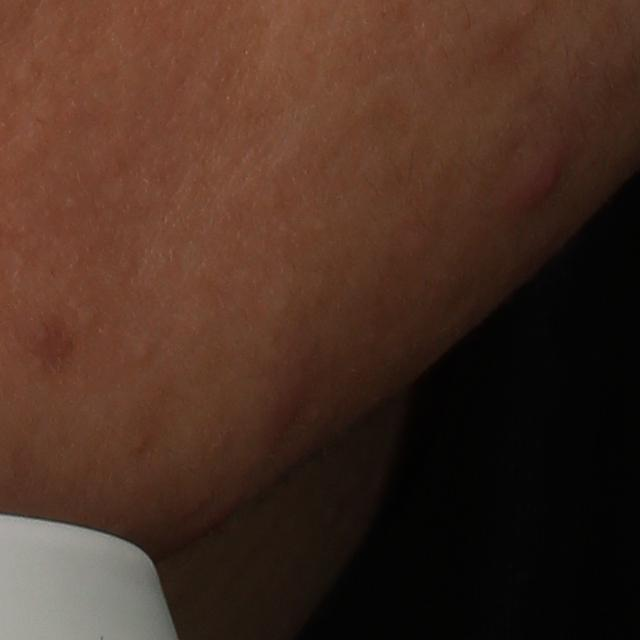comedo: (133, 334, 159, 368)
papule: (505, 149, 573, 221)
